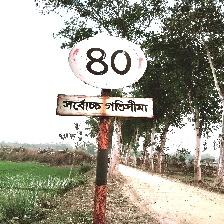Speed-limit: (58, 33, 153, 119)
